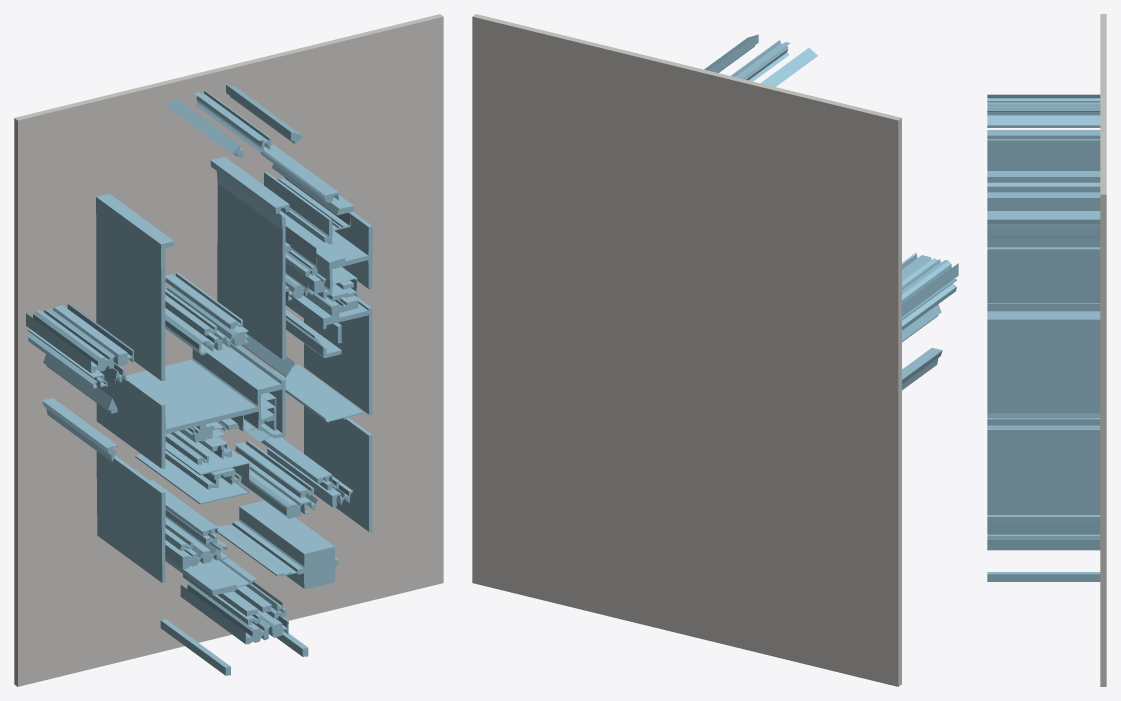
3 views of the same model, side by side, from view 1: azimuth 30°, elevation 25°; view 2: azimuth 150°, elevation 25°; view 3: azimuth 270°, elevation 25° (orthographic). The views are drawn at different scales.
Parts seen in each view (by area): view 1: world; view 2: world; view 3: world.
Part boxes in pixels (left/top/right/bottom): world: left=14, top=14, right=443, bottom=686; world: left=472, top=14, right=958, bottom=686; world: left=987, top=14, right=1106, bottom=686.
Size of the model in its own units: 10.23 by 13 by 2.85.
